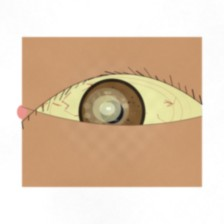corneal_ulcer: (84, 90, 130, 127)
